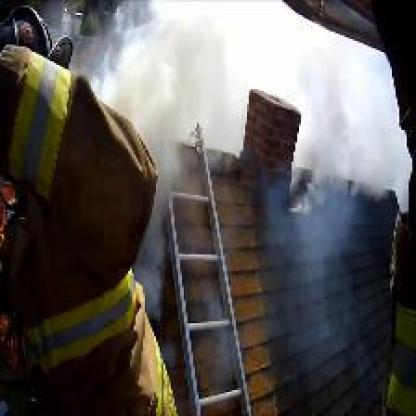other: (17, 306, 128, 353)
smoke: (130, 26, 212, 124), (318, 88, 400, 174)
